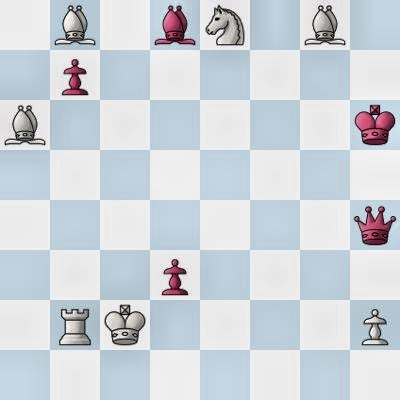black-bishop: (150, 0, 200, 50)
black-king: (350, 100, 400, 150)
black-pawn: (50, 50, 100, 100), (150, 250, 200, 300)
black-queen: (350, 200, 400, 250)
white-bishop: (50, 0, 100, 50), (300, 0, 350, 50), (0, 100, 50, 150)
white-king: (100, 300, 150, 350)
white-knight: (200, 0, 250, 50)
white-pawn: (350, 300, 400, 350)
white-rook: (50, 300, 100, 350)
